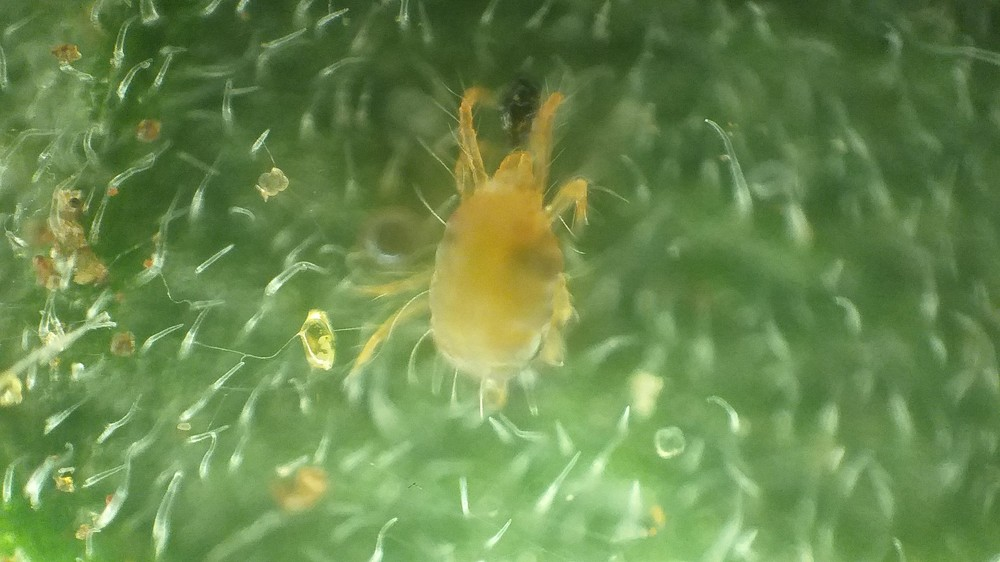Aracnido Rojo: (360, 84, 634, 435)
